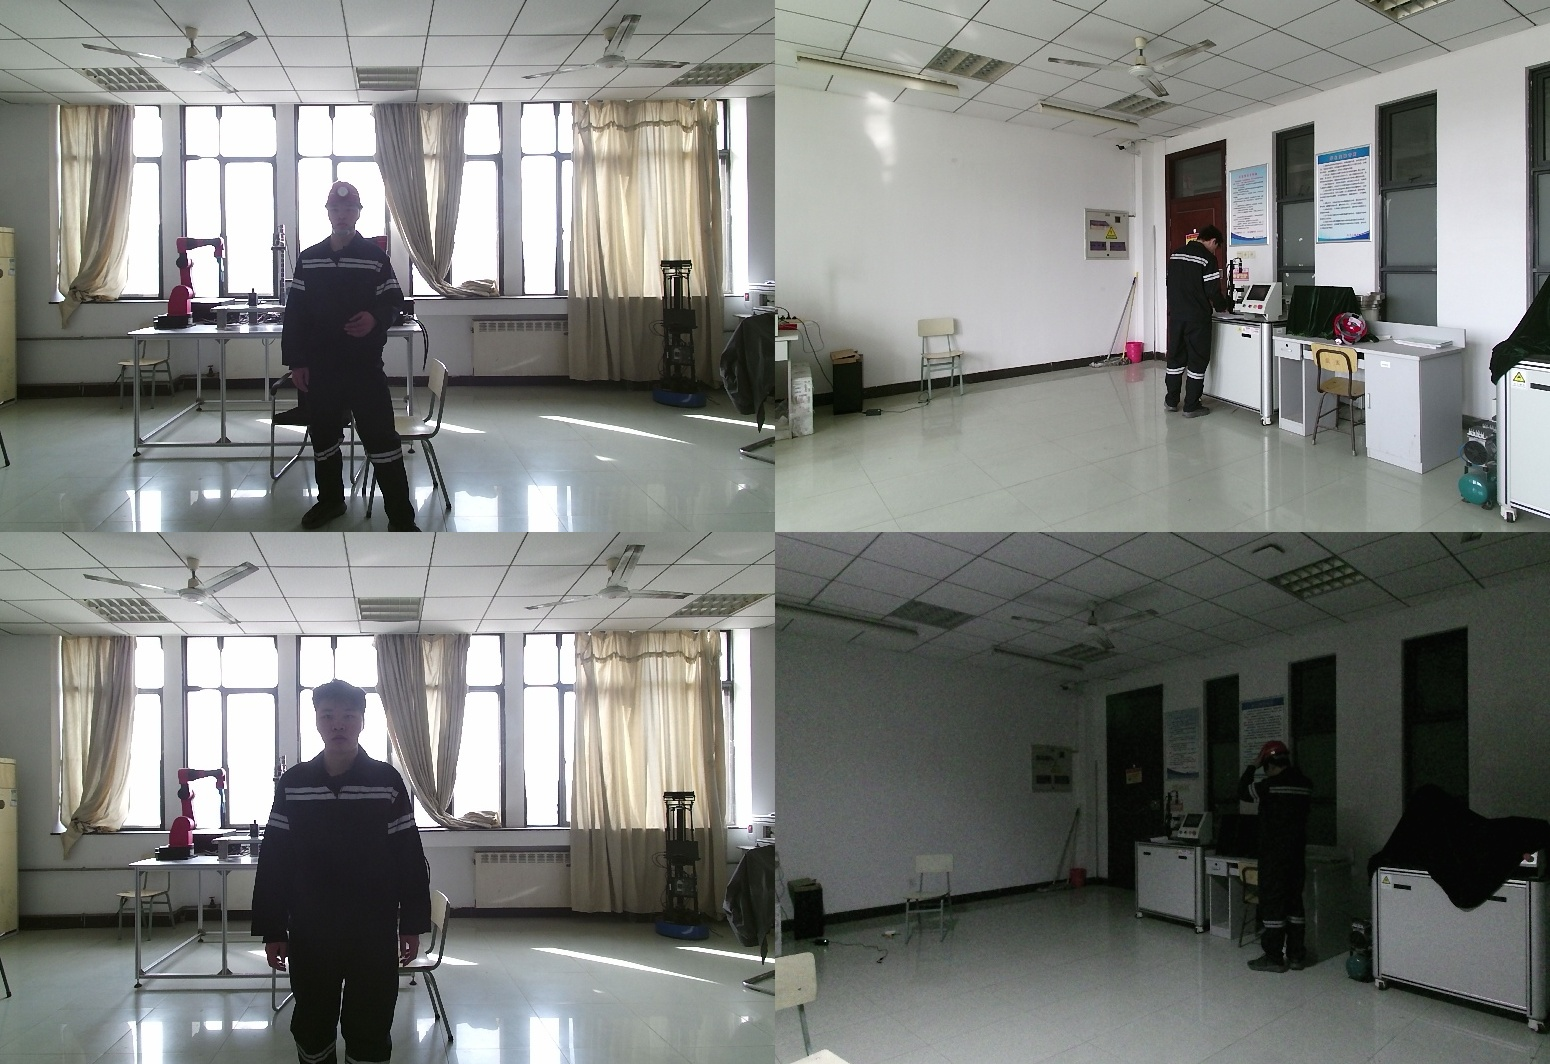person: (255, 681, 442, 1064), (283, 182, 417, 532), (1235, 742, 1334, 972), (1163, 229, 1228, 421)
